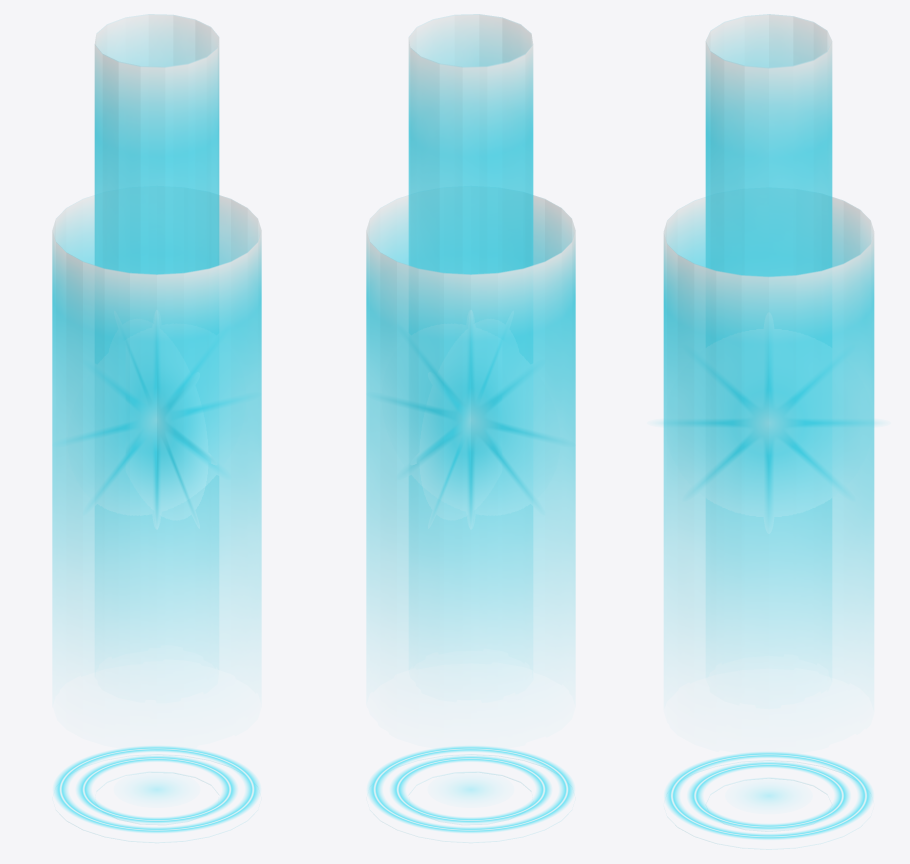
The model's file is fx_up_orbit.glb.
The picture shows the model from 3 angles, left to right: view 1: azimuth 30°, elevation 25°; view 2: azimuth 150°, elevation 25°; view 3: azimuth 270°, elevation 25°; orthographic projection.
Visible parts, largest first — view 1: fx_up_pillar, fx_up_star, fx_up_ring; view 2: fx_up_pillar, fx_up_star, fx_up_ring; view 3: fx_up_pillar, fx_up_star, fx_up_ring.
Part boxes in pixels (box(x1,y1,x2,y2)): fx_up_pillar: box(52, 14, 261, 842); fx_up_star: box(64, 347, 239, 517); fx_up_ring: box(54, 746, 259, 832); fx_up_pillar: box(366, 14, 575, 842); fx_up_star: box(387, 342, 563, 516); fx_up_ring: box(368, 746, 573, 832); fx_up_pillar: box(663, 14, 874, 849); fx_up_star: box(661, 352, 876, 510); fx_up_ring: box(665, 752, 872, 839).
Size of the model in its own units: 1.2 by 4 by 1.2.
Materials: 3 (3 with a texture image).
